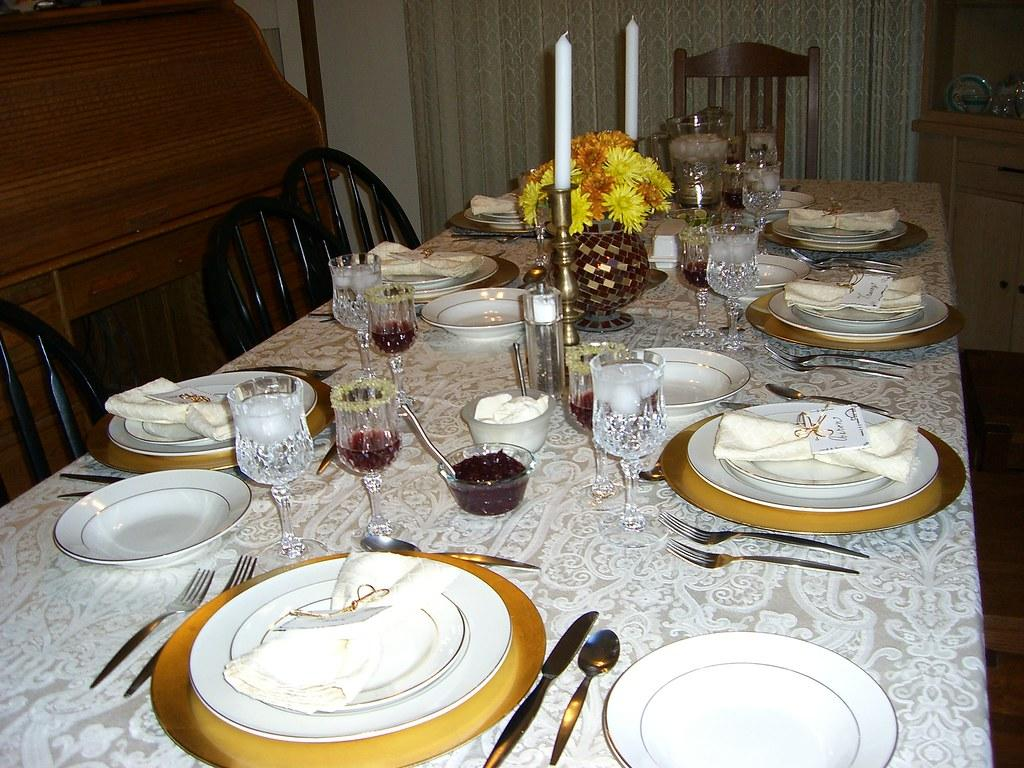table: (3, 154, 999, 768)
